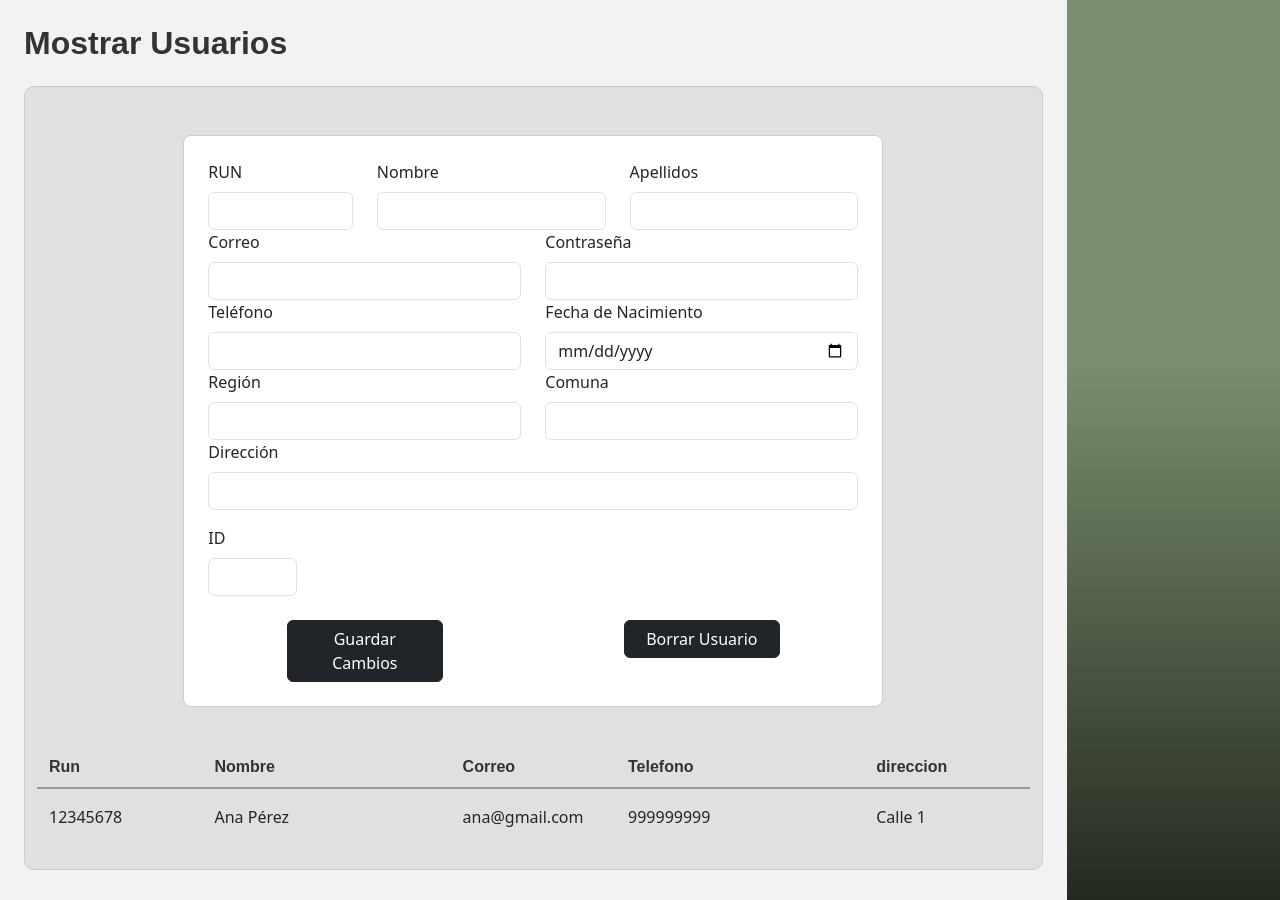
vista admin de mostrar usuarios › borra al usuario seleccionado
Step 1. Click the text "12345678" → (86, 817), box [49,806,122,828]
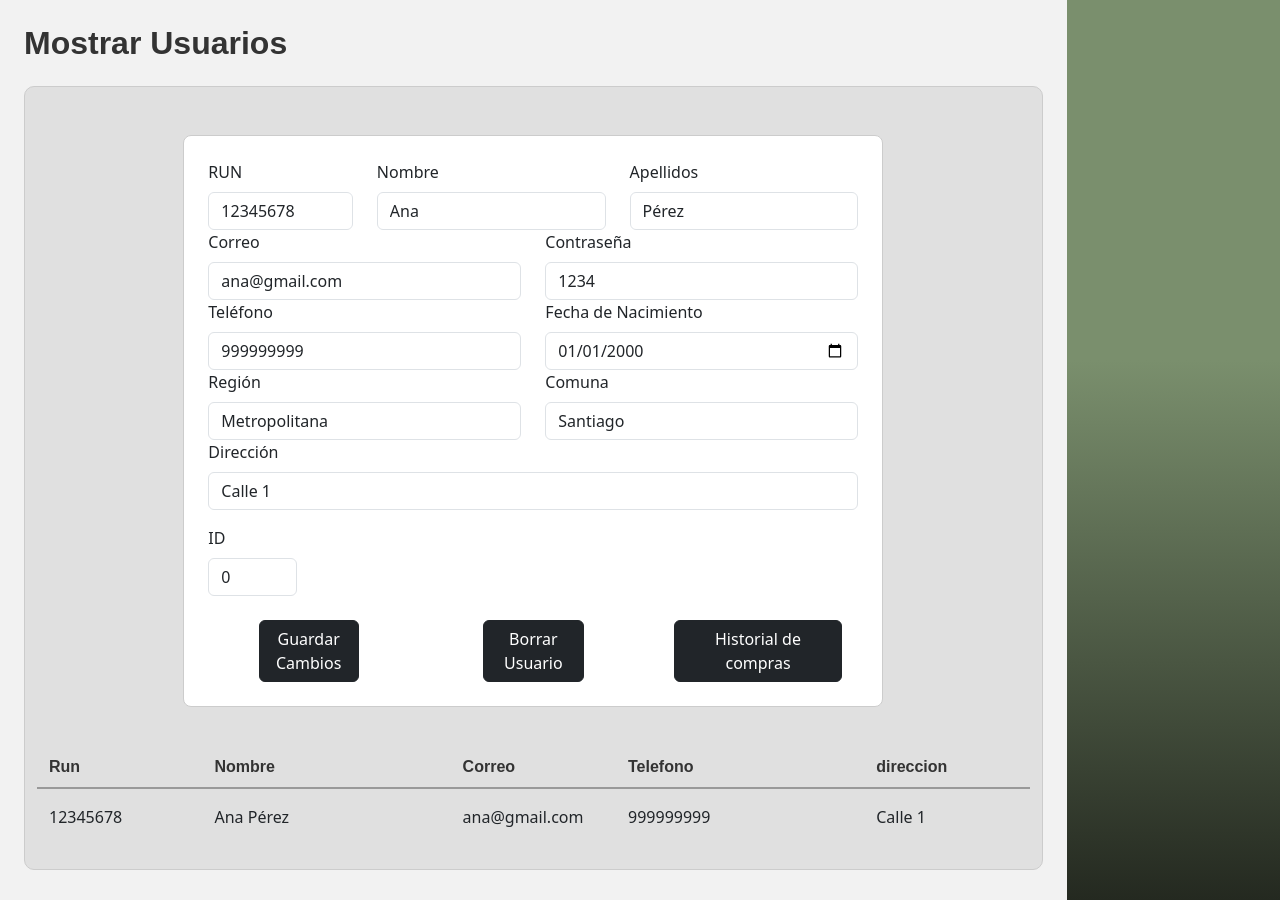
Step 2. Click the button "Borrar Usuario" → (533, 651), box [483,620,584,682]
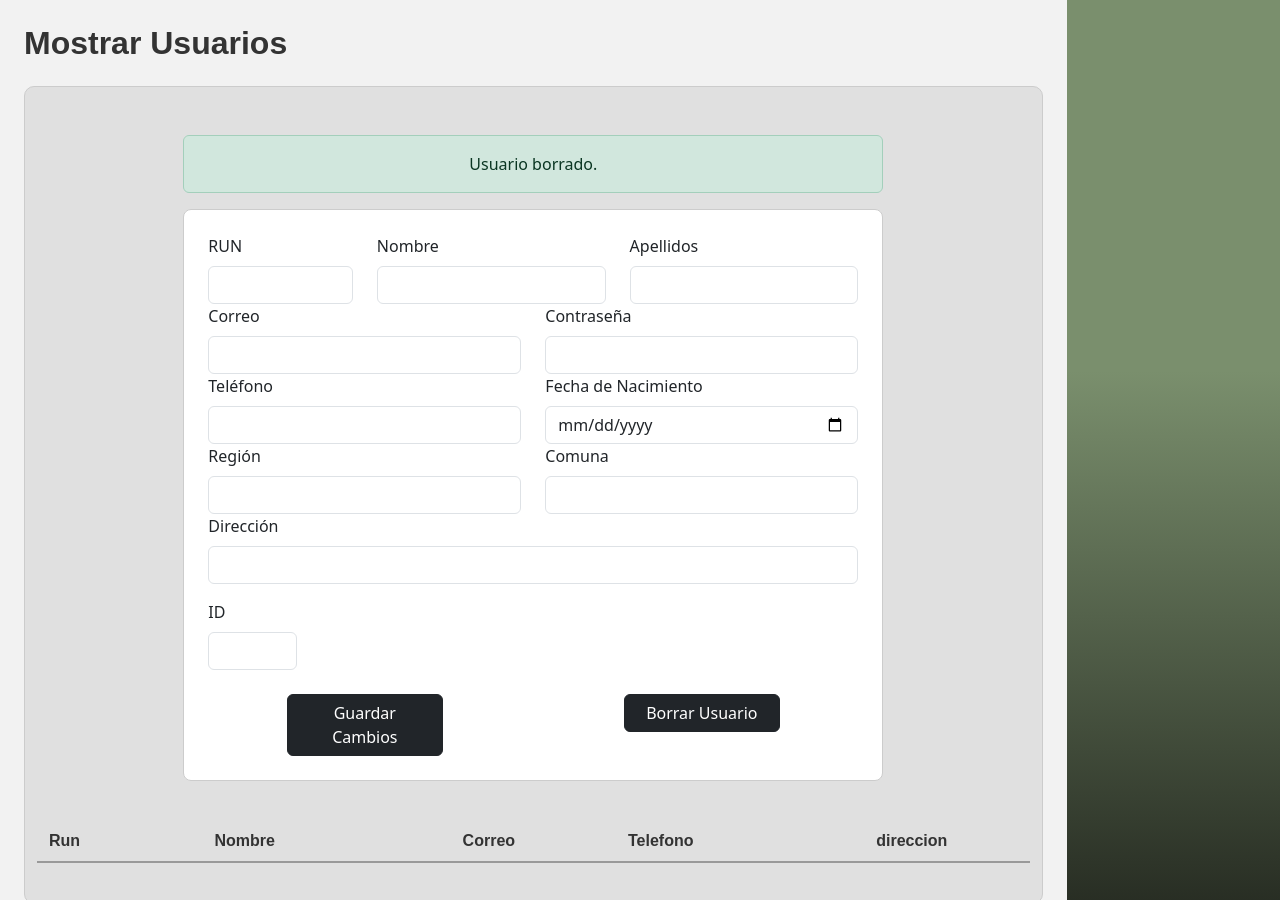
expect the text "Usuario borrado." is shown: met, box [183,135,883,193]
